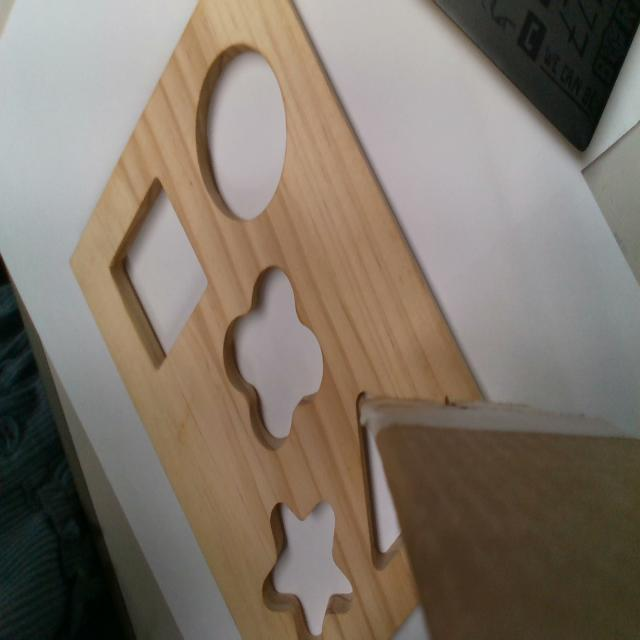circle: (194, 43, 288, 221)
flower: (224, 271, 324, 450)
square: (109, 174, 211, 372)
star: (261, 500, 352, 637)
triangle: (355, 388, 402, 574)
